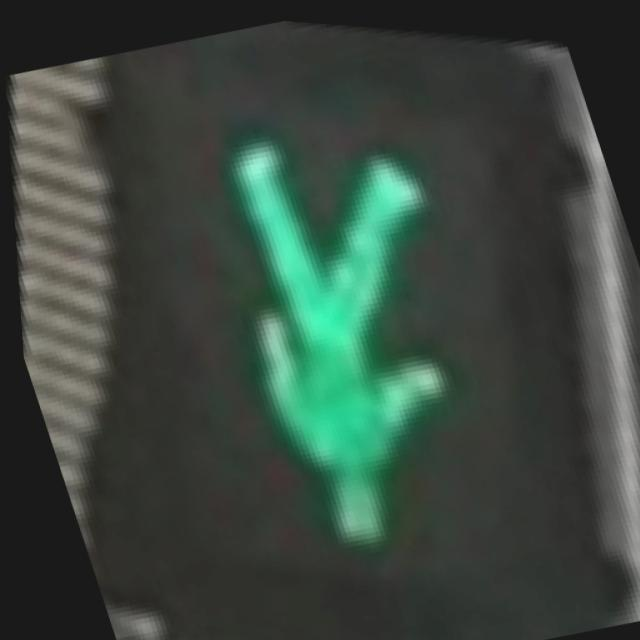green_light: (99, 56, 582, 630)
